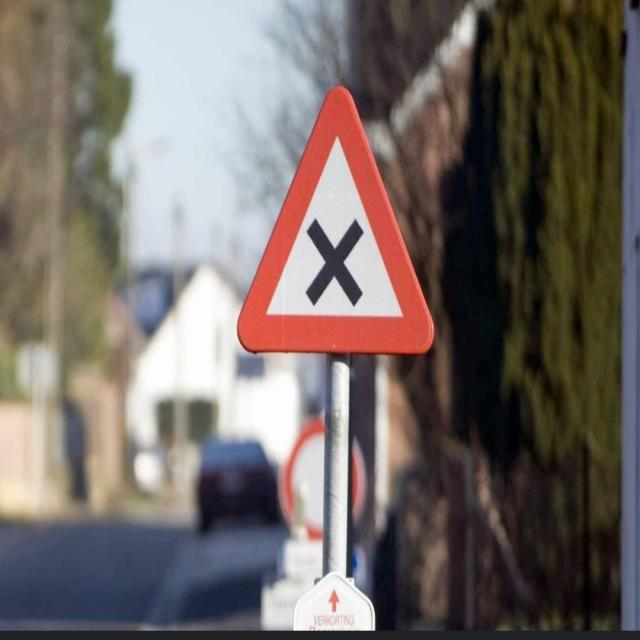cross road: (236, 83, 436, 354)
